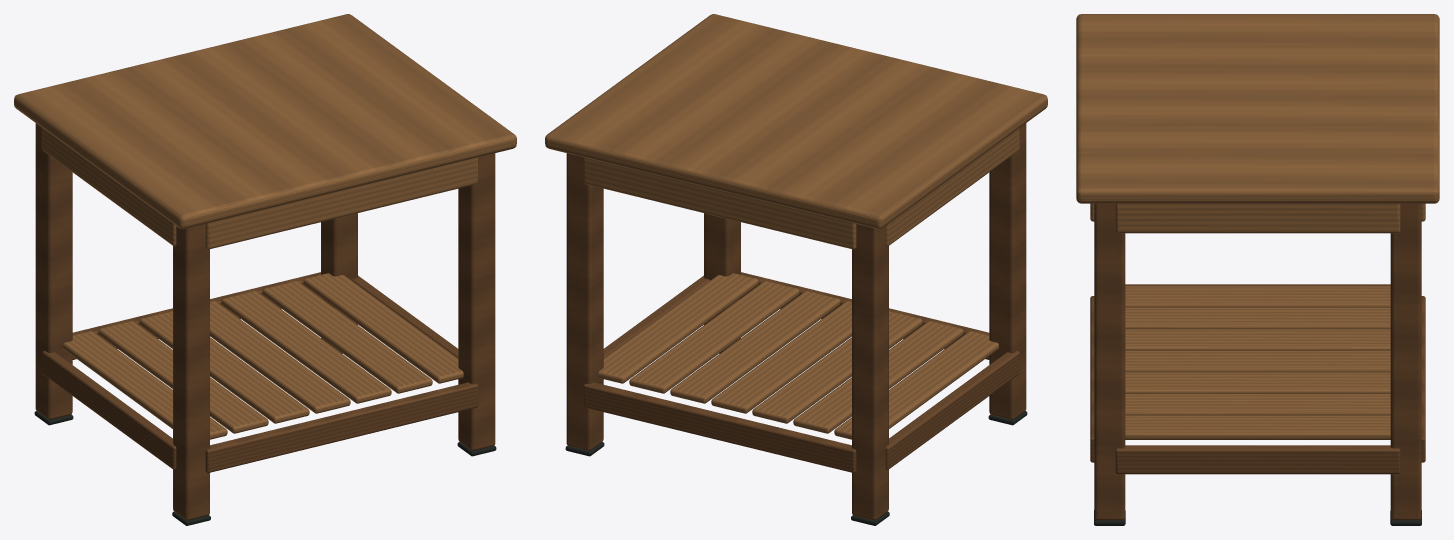
Rendered from side-table.glb.
3 views of the same model, side by side, from view 1: azimuth 30°, elevation 25°; view 2: azimuth 150°, elevation 25°; view 3: azimuth 270°, elevation 25° (orthographic). The views are drawn at different scales.
Visible parts, largest first — view 1: side-table / Desk oak edge, side-table / Oiled walnut, side-table / Soft black feet; view 2: side-table / Desk oak edge, side-table / Oiled walnut, side-table / Soft black feet; view 3: side-table / Desk oak edge, side-table / Oiled walnut, side-table / Soft black feet.
Boxes of the visible parts, x1=… form: side-table / Desk oak edge: x1=14, y1=14, x2=516, y2=439; side-table / Oiled walnut: x1=35, y1=123, x2=495, y2=520; side-table / Soft black feet: x1=34, y1=350, x2=496, y2=525; side-table / Desk oak edge: x1=545, y1=14, x2=1047, y2=439; side-table / Oiled walnut: x1=566, y1=123, x2=1026, y2=520; side-table / Soft black feet: x1=565, y1=350, x2=1027, y2=525; side-table / Desk oak edge: x1=1076, y1=14, x2=1439, y2=439; side-table / Oiled walnut: x1=1090, y1=203, x2=1425, y2=520; side-table / Soft black feet: x1=1094, y1=510, x2=1421, y2=525.
Bounding box in the file's own units: 0.61 × 0.55 × 0.527.
Materials: 3 (2 with a texture image).
